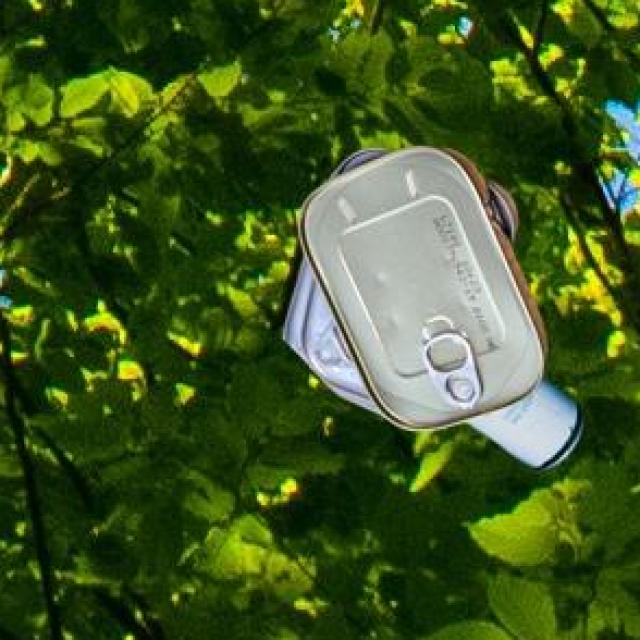logam: (280, 143, 543, 428), (463, 373, 580, 467)
